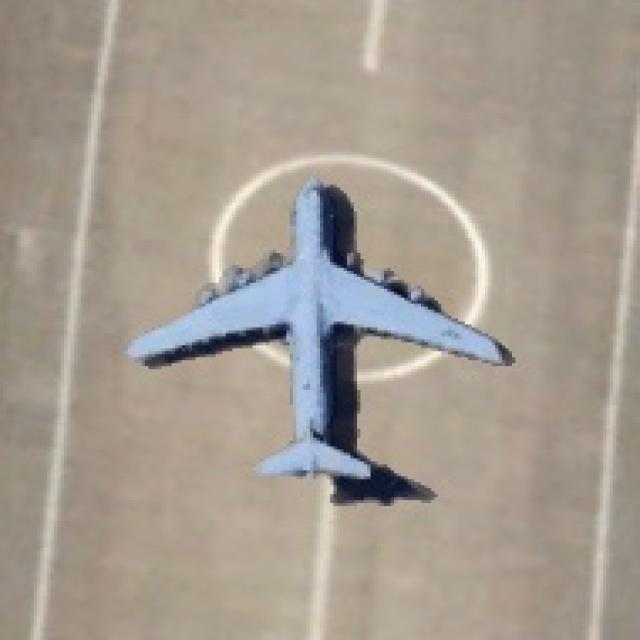C-5_TopDown: (126, 168, 510, 508)
